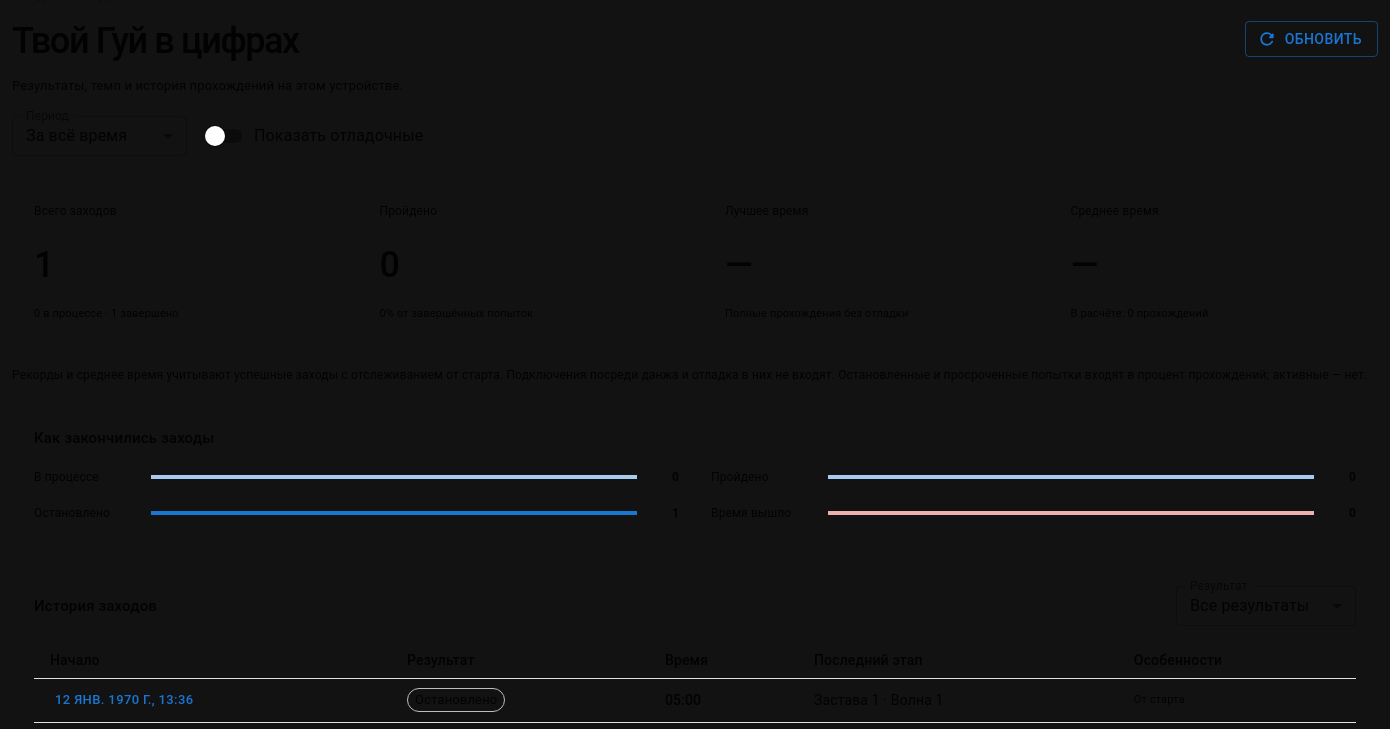
Test: экран статистики › скрывает отладочные заходы по умолчанию и позволяет включить их
This screenshot has width=1390, height=729.
Expected: the number of buttons named "Подробнее о заходе" is 1, [50,685,198,716]
Click the switch labelled "Показать отладочные" at (314, 136), box [205,126,423,146]
(page scrolled)
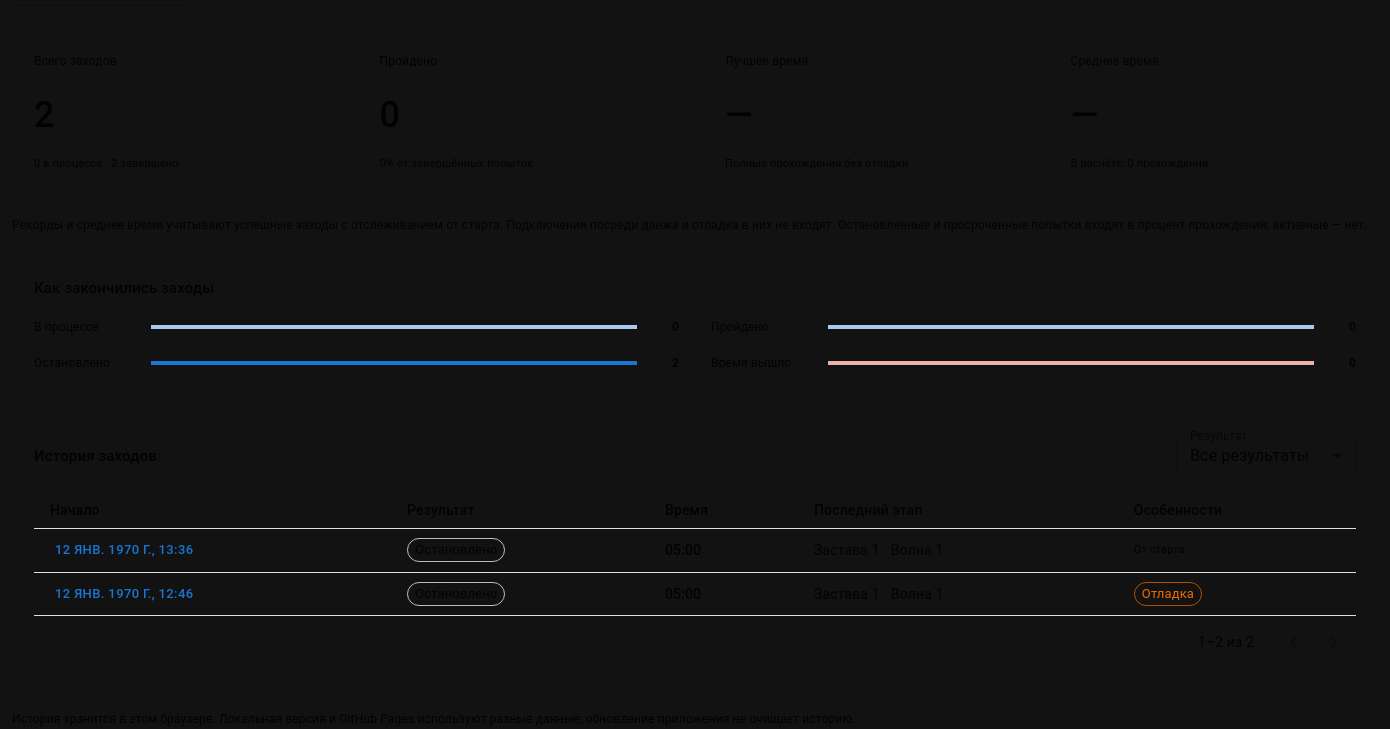
Now the number of buttons named "Подробнее о заходе" is 2, box [50,535,198,566]; [50,578,198,609]
Now the text "Отладка" is shown, box [1142,586,1194,601]
